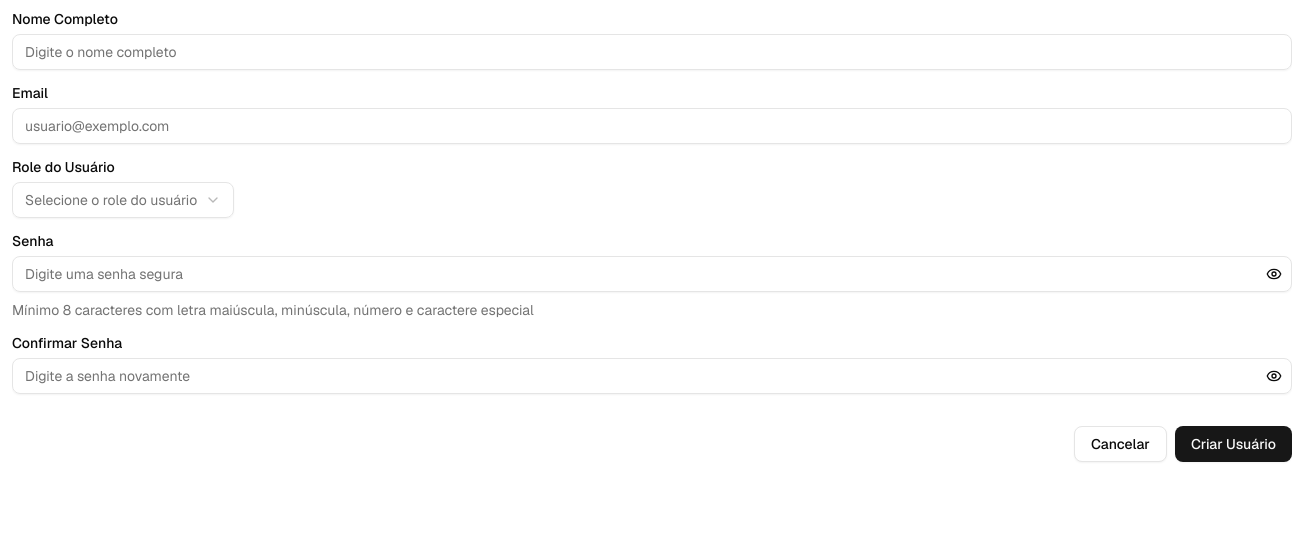
Test: UserCreateForm › Form Validation › should show validation error for weak password
This screenshot has width=1304, height=535.
// Fill required fields first
Type "Test User" into the field labelled "Nome Completo" at (652, 52), box [12,34,1292,70]
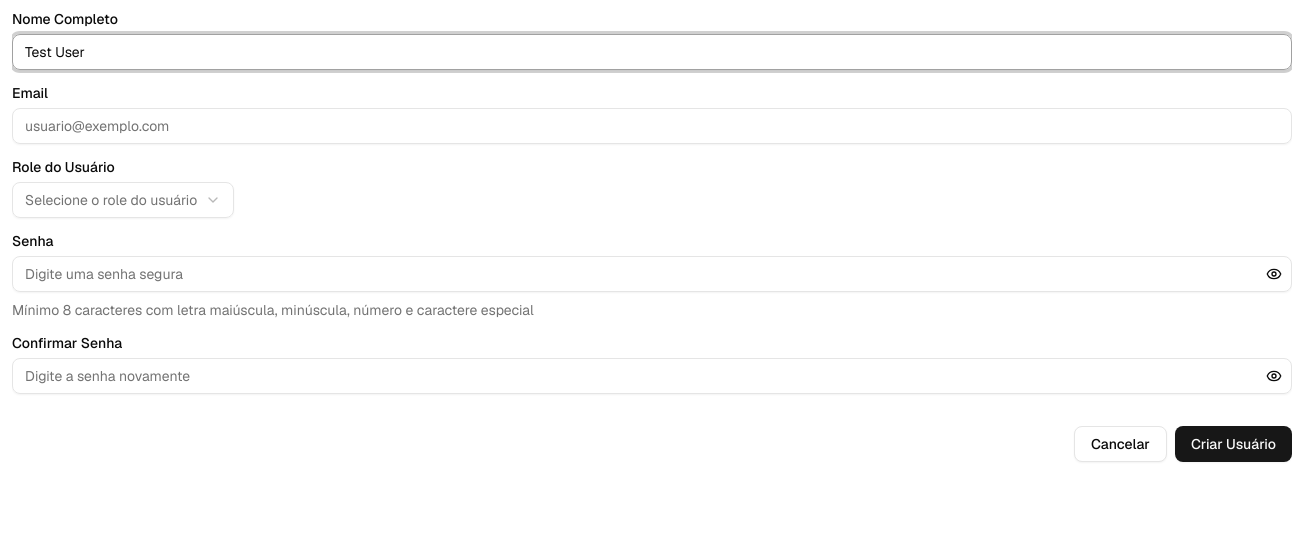
Type "test@example.com" into the field labelled "Email" at (652, 126), box [12,108,1292,144]
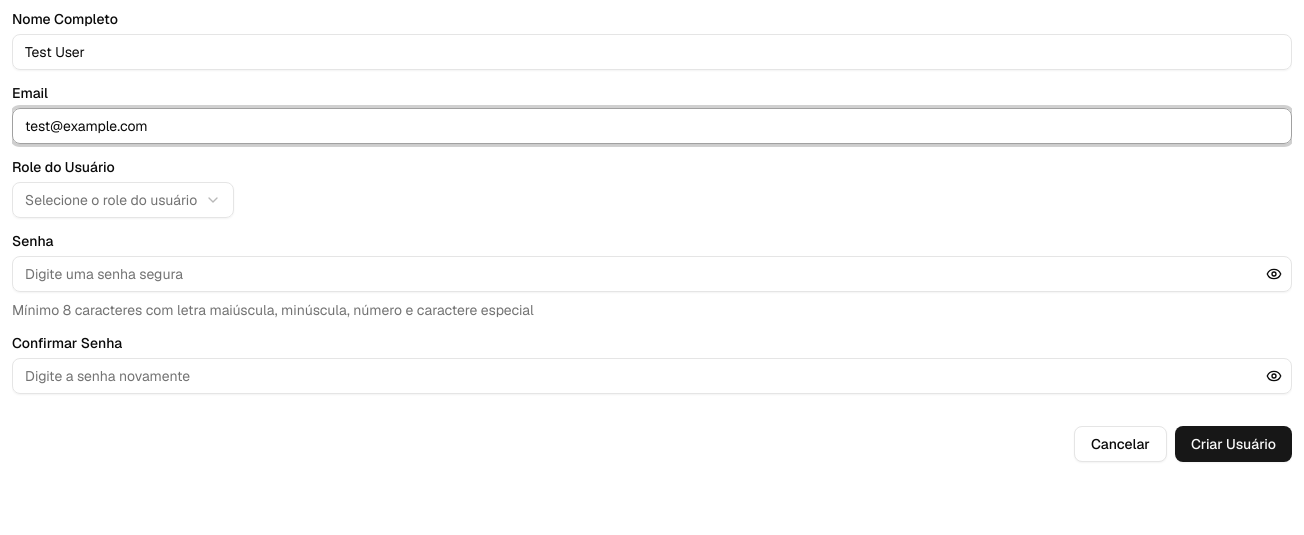
Type "weak" into the password field with placeholder "Digite uma senha segura" at (652, 274), box [12,256,1292,292]
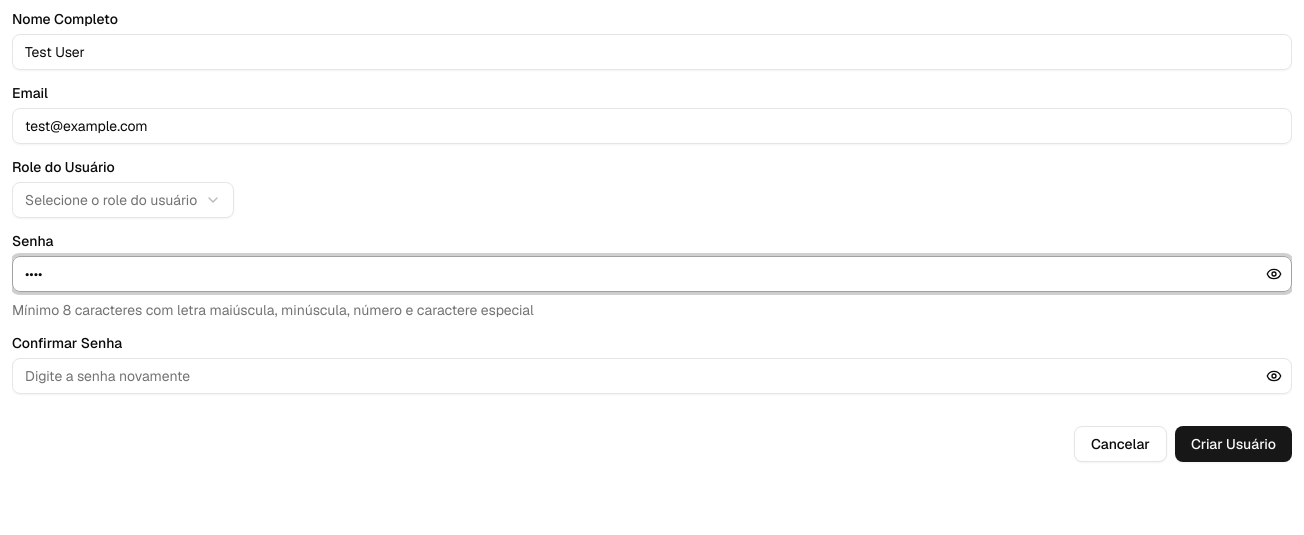
Click the button "Criar Usuário" at (1233, 444), box [1175,426,1292,462]
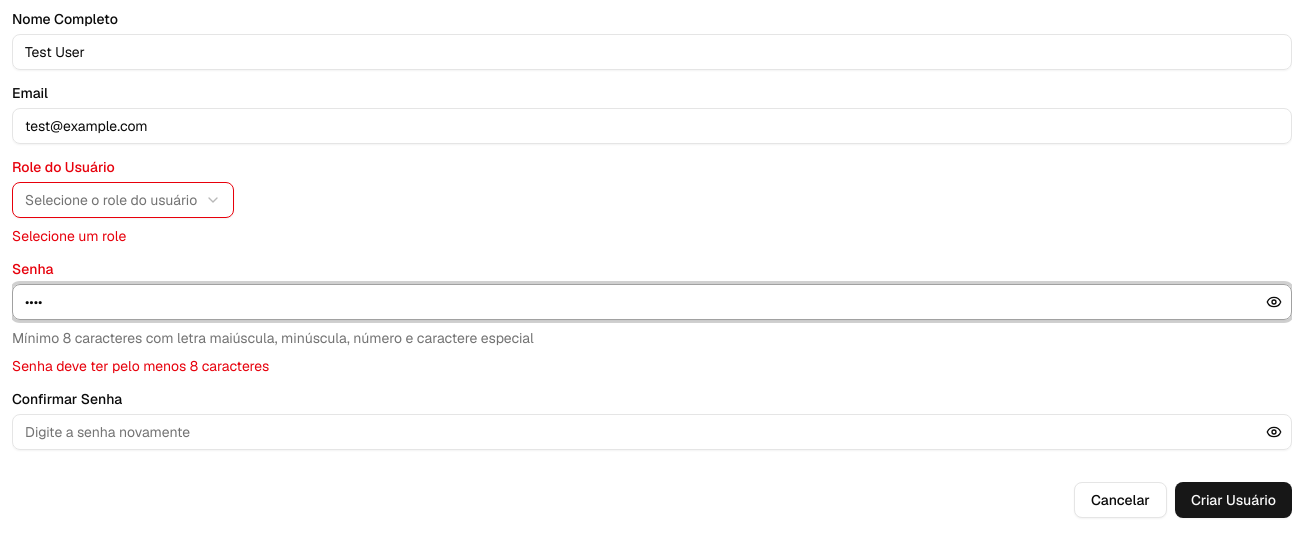
expect the text "Senha deve ter pelo menos 8 caracteres" is shown: met, box [12,357,269,375]
